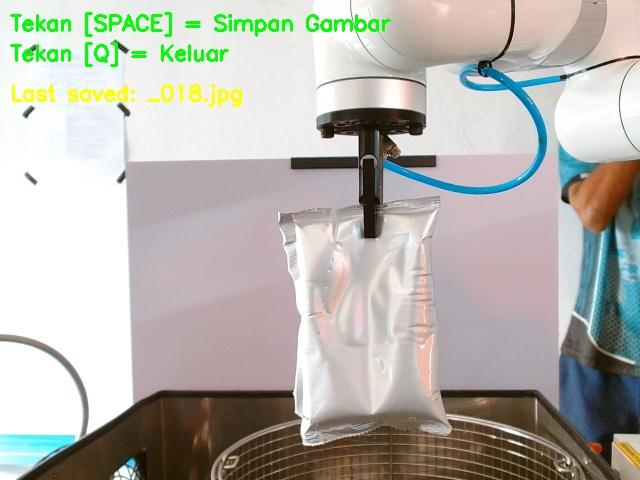retort-pouch: (279, 197, 451, 444)
